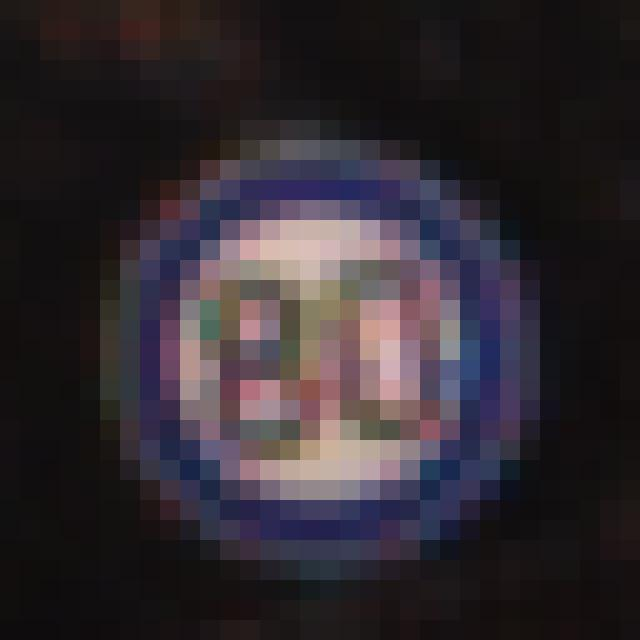SPEED-LIMIT-80: (100, 141, 540, 563)
